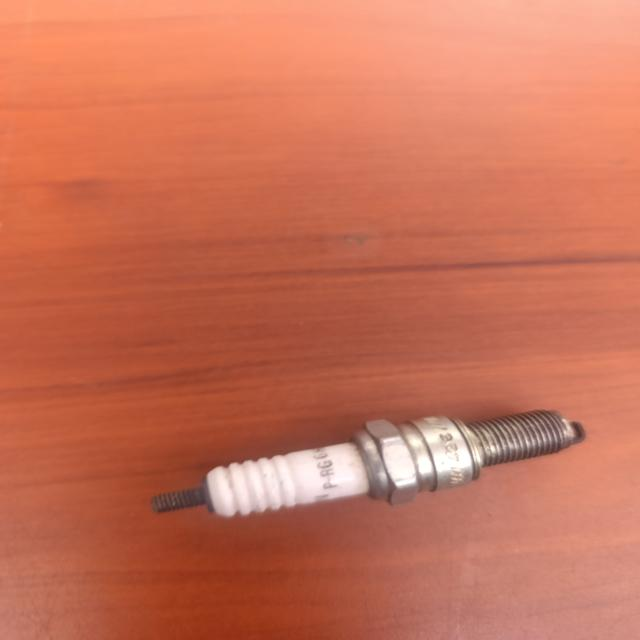Mause: (151, 411, 585, 516)
